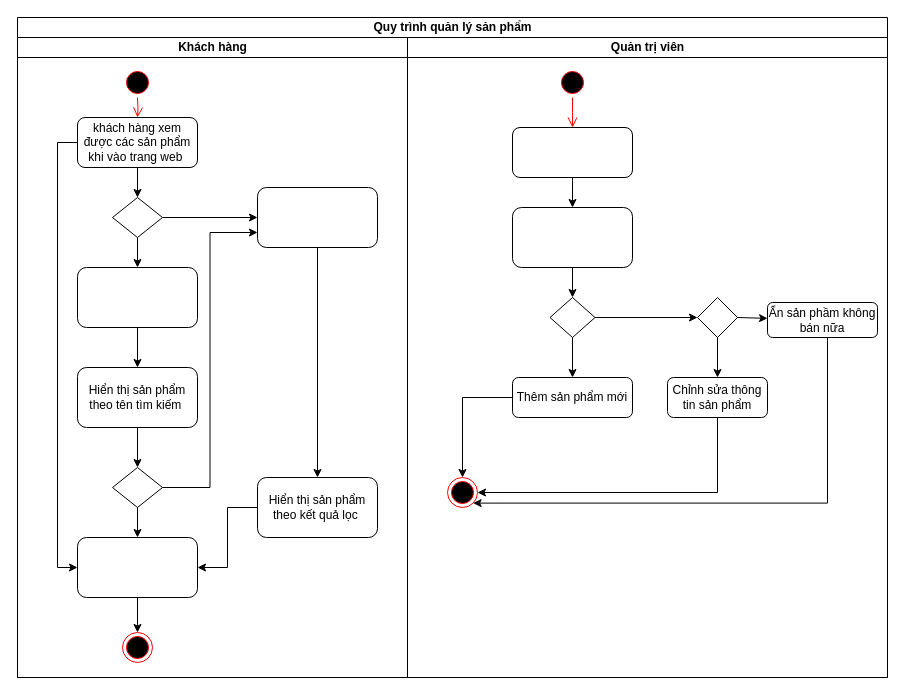
Image size: 905x695. Some labels were removed from this diagram. The centre of each missing label's shape, as x and y in pixels:
Chọn mục "Sản phẩm": [572,237]
Khách hàng chọn tiêu chí để lọc sản phẩm: [317,217]
Khách hàng nhập tên sản phẩm muốn tìm kiếm trên ô tìm kiếm: [137,297]
Nhấn vào sản phẩm để xem thông tin chi tiết: [137,567]
Quản trị viên vào website: [572,152]
